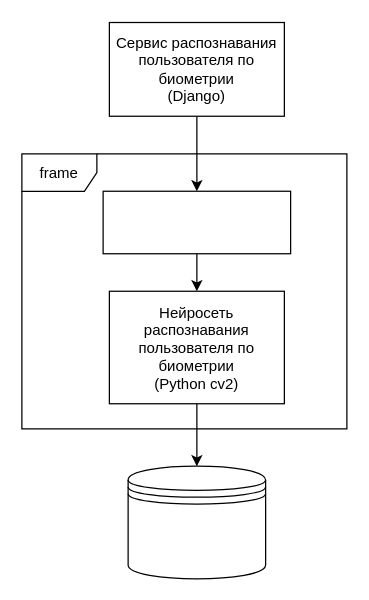
Some shapes in this 369 by 600 pixel diagram are drawn without their labels. The centre of each missing label's shape, as x and y in pixels:
BiometryController (Django Service): [196,222]
Хранилище данных по биометрии (Postgres?): [196,522]
